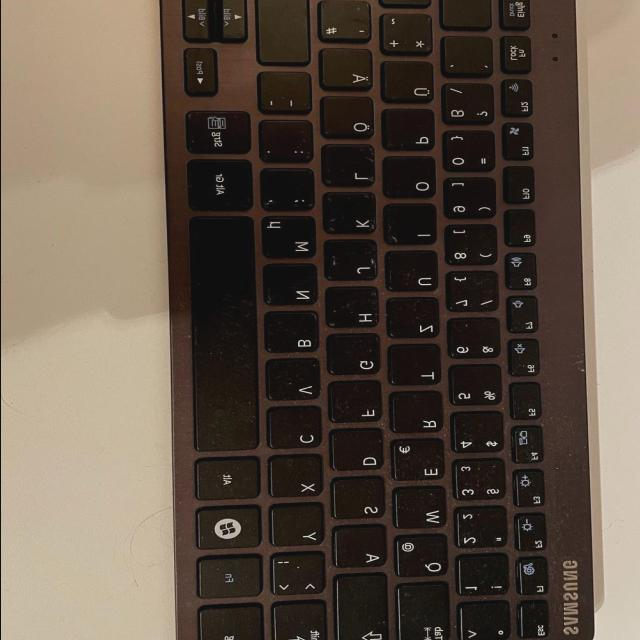0: (446, 132, 500, 174)
1: (458, 556, 512, 598)
2: (457, 508, 511, 551)
3: (455, 460, 509, 504)
4: (454, 413, 507, 455)
5: (452, 367, 506, 409)
6: (450, 319, 504, 361)
7: (448, 272, 502, 314)
8: (447, 226, 501, 268)
9: (446, 179, 500, 221)
a: (335, 527, 390, 570)
accent: (445, 38, 499, 79)
ae: (321, 50, 376, 92)
alt-left: (196, 459, 263, 503)
altgr-right: (189, 160, 257, 214)
b: (266, 312, 323, 356)
c: (269, 408, 325, 451)
caret: (461, 604, 514, 640)
comma: (263, 171, 319, 213)
d: (332, 431, 387, 473)
del: (442, 0, 496, 32)
e: (393, 441, 448, 484)
enter: (318, 0, 436, 10)
f: (331, 383, 385, 426)
g: (329, 335, 384, 377)
h: (328, 288, 382, 330)
hash: (321, 2, 375, 44)
i: (387, 205, 441, 247)
j: (327, 241, 382, 283)
k: (326, 194, 380, 236)
keyboard: (152, 0, 603, 640)
l: (325, 146, 379, 188)
less: (273, 554, 329, 598)
m: (264, 219, 320, 261)
minus: (261, 73, 316, 117)
n: (265, 265, 321, 308)
o: (386, 158, 440, 200)
oe: (323, 98, 378, 141)
p: (384, 110, 439, 153)
plus: (383, 15, 437, 57)
point: (262, 122, 317, 165)
q: (396, 536, 450, 580)
r: (392, 393, 445, 435)
s: (334, 479, 388, 521)
shift-left: (275, 603, 331, 640)
shift-lock: (335, 574, 392, 640)
shift-right: (257, 1, 315, 69)
space: (192, 217, 262, 455)
ss: (445, 85, 499, 127)
strg-left: (198, 606, 268, 640)
strg-right: (187, 112, 255, 157)
t: (390, 346, 444, 388)
tab: (400, 585, 454, 640)
u: (387, 252, 442, 294)
ue: (383, 62, 438, 105)
v: (268, 360, 324, 402)
w: (395, 488, 450, 531)
x: (271, 457, 327, 500)
y: (271, 505, 327, 549)
z: (389, 299, 443, 341)
